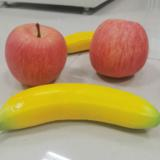apple: (6, 23, 67, 87), (89, 18, 149, 78)
